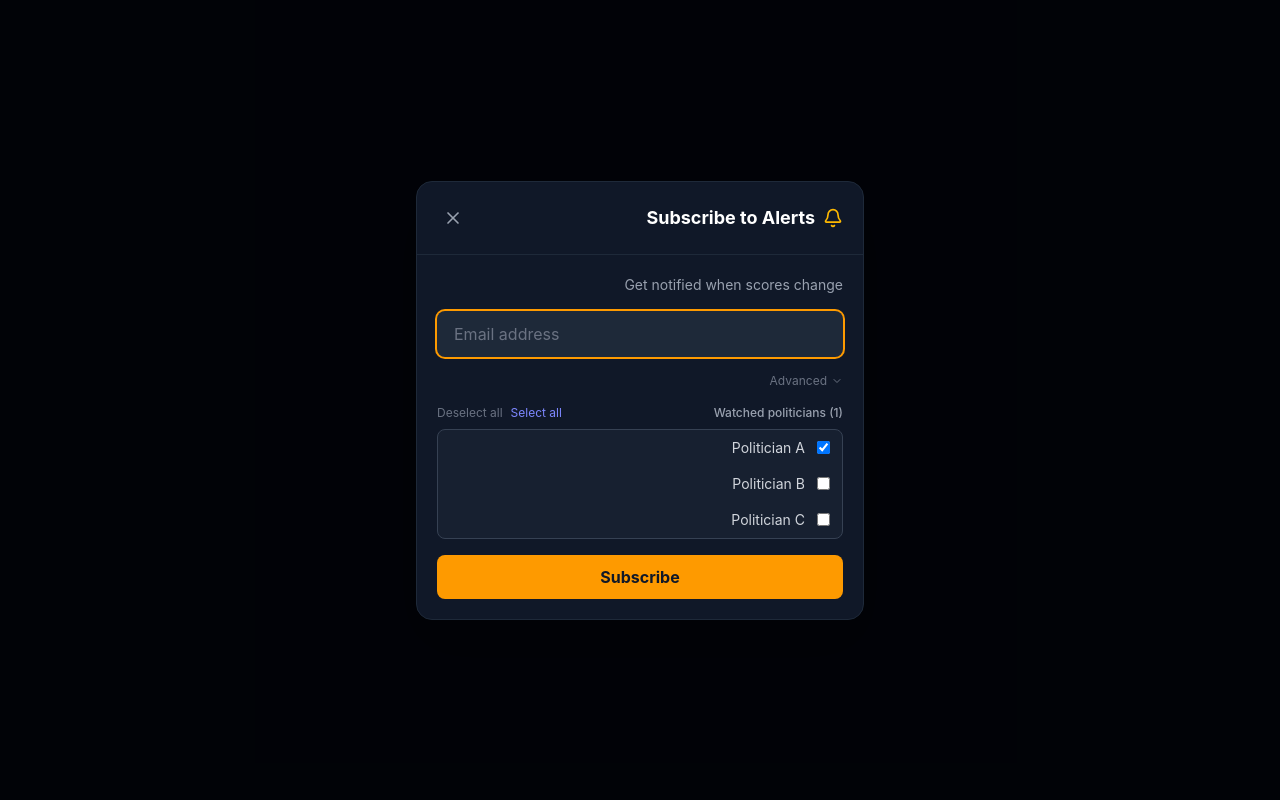
Test case: AlertSubscriptionModal › shows error on subscribe failure
Type "user@test.com" into the field with placeholder "Email address".
click(640, 334); type("user@test.com")  # box top-left (437, 310), bottom-right (843, 356)
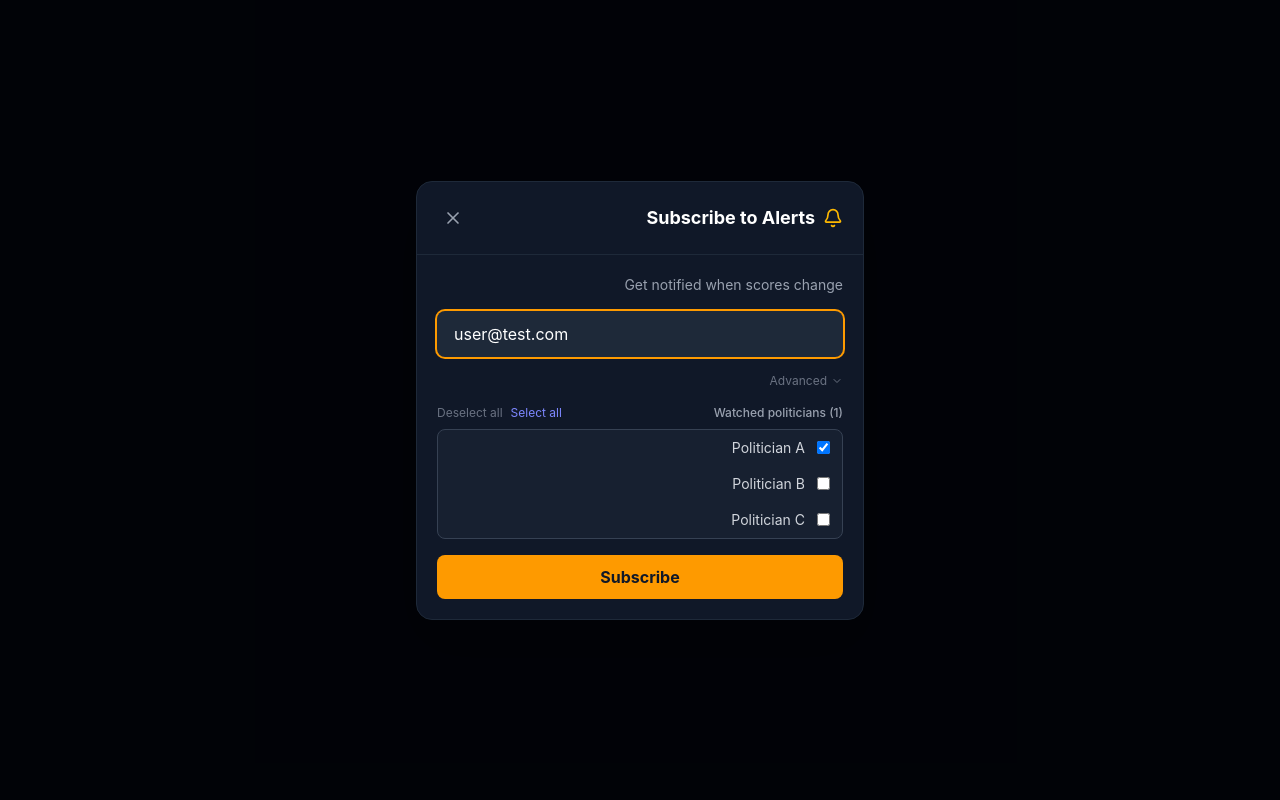
Click the button "Subscribe".
click(640, 576)  # box top-left (437, 554), bottom-right (843, 598)
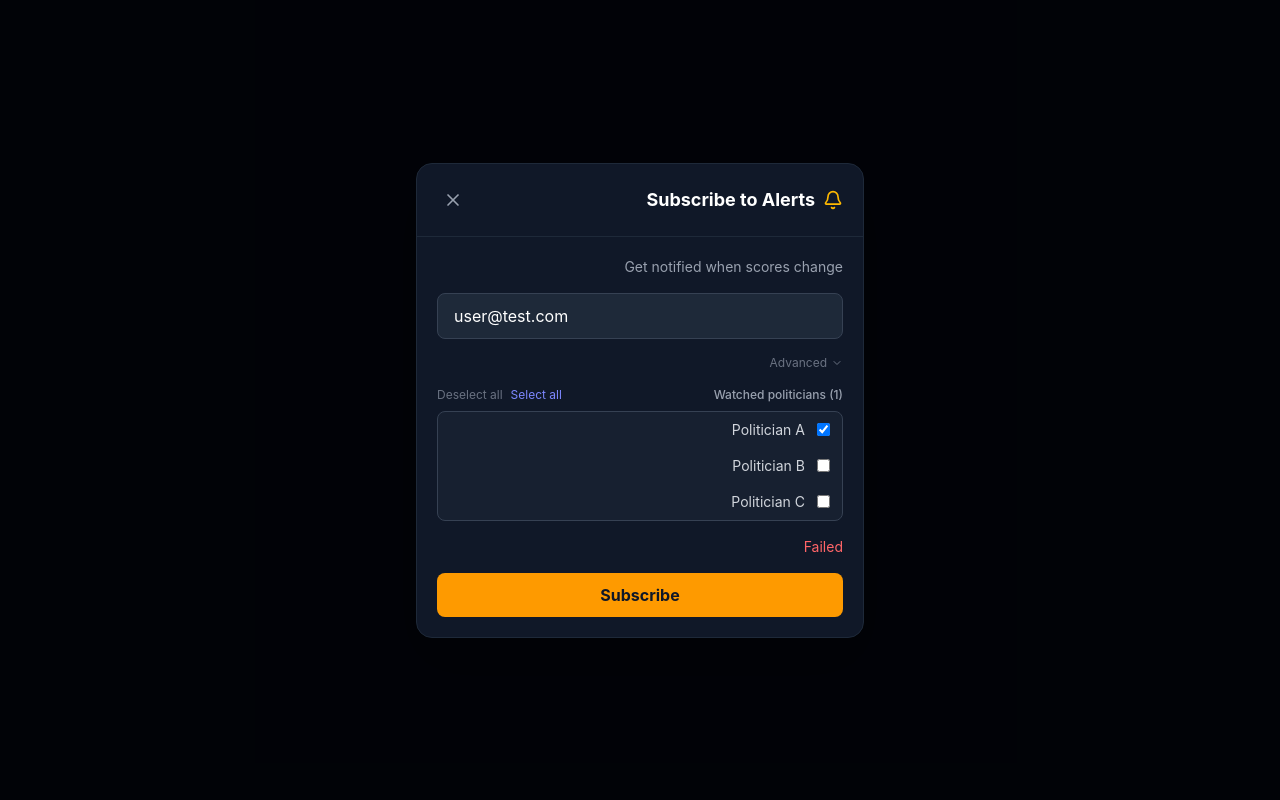
Now the text "Failed" is shown, box top-left (804, 538), bottom-right (843, 554)
